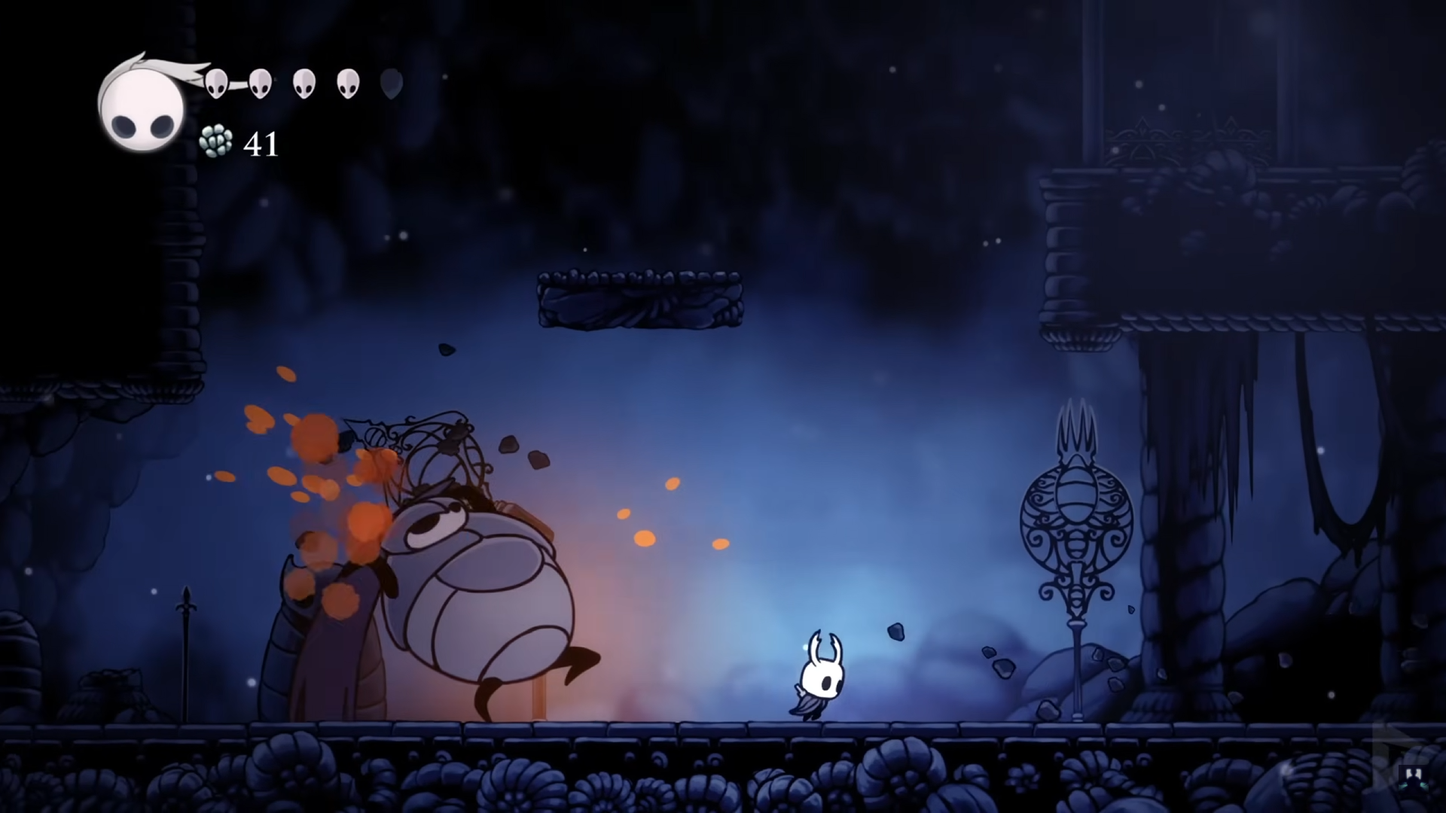HK: (786, 630, 852, 723)
